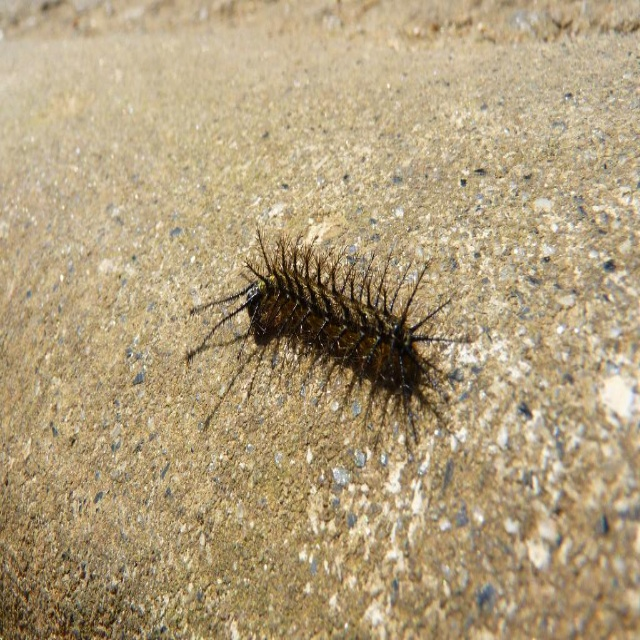Centipede: (199, 187, 470, 445)
